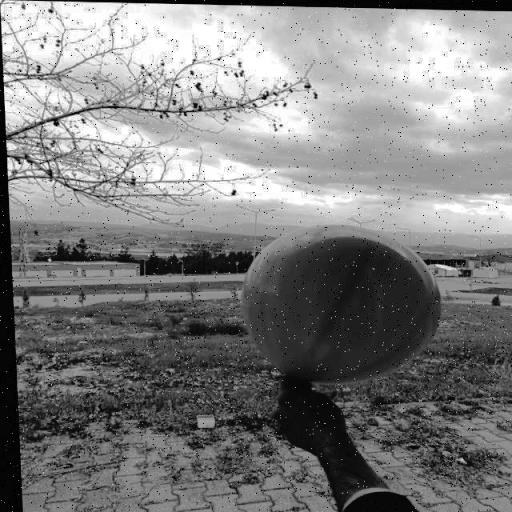balloon: (236, 221, 442, 385)
